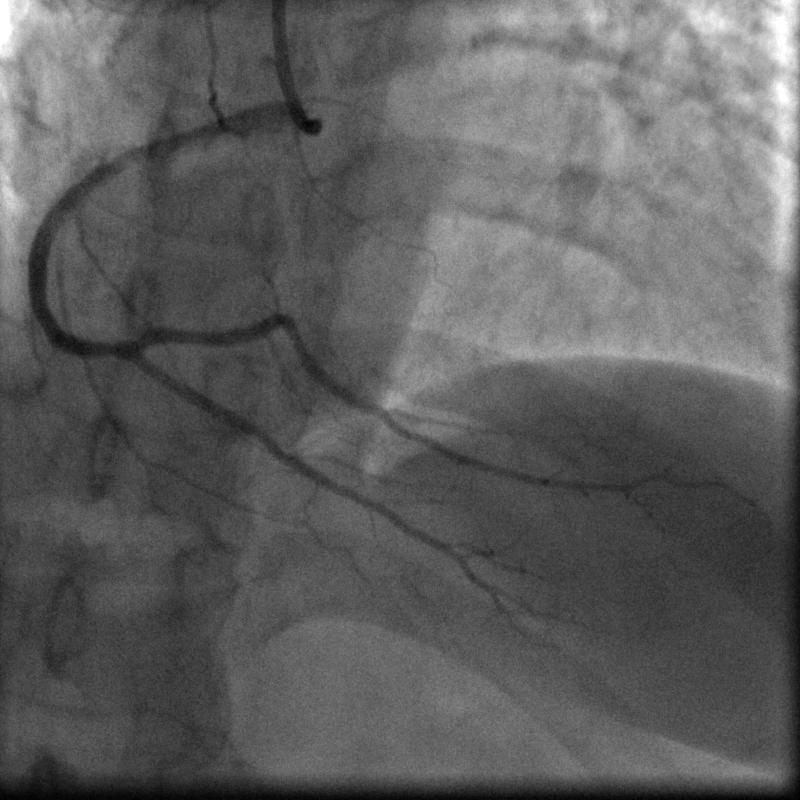Stenosis: (96, 334, 127, 362)
